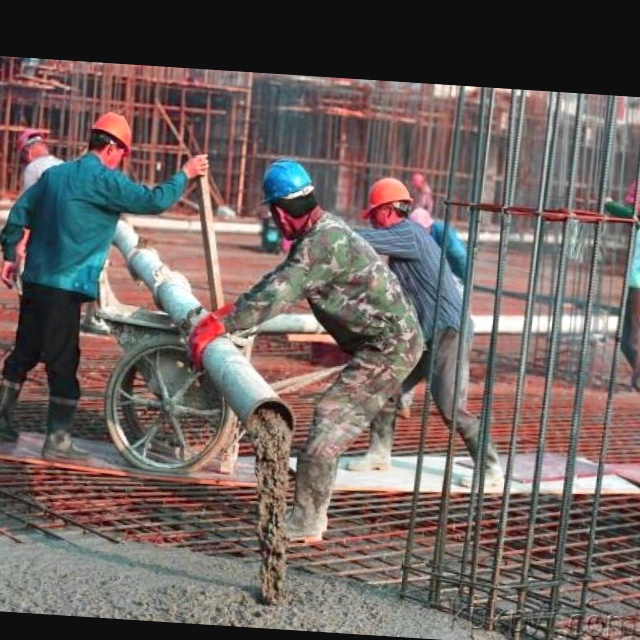Con_Casco: (259, 156, 322, 235), (85, 107, 136, 170)
